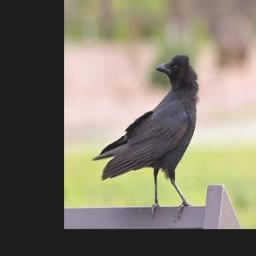Crow: (91, 53, 200, 218)
